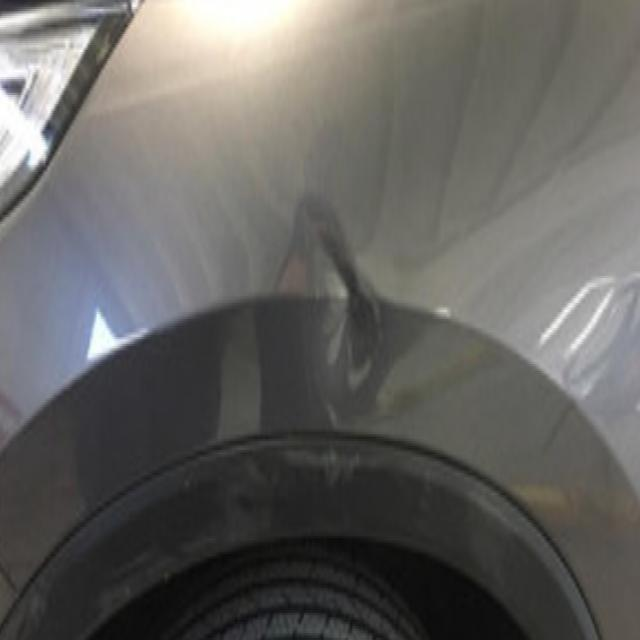dents: (292, 173, 389, 429)
